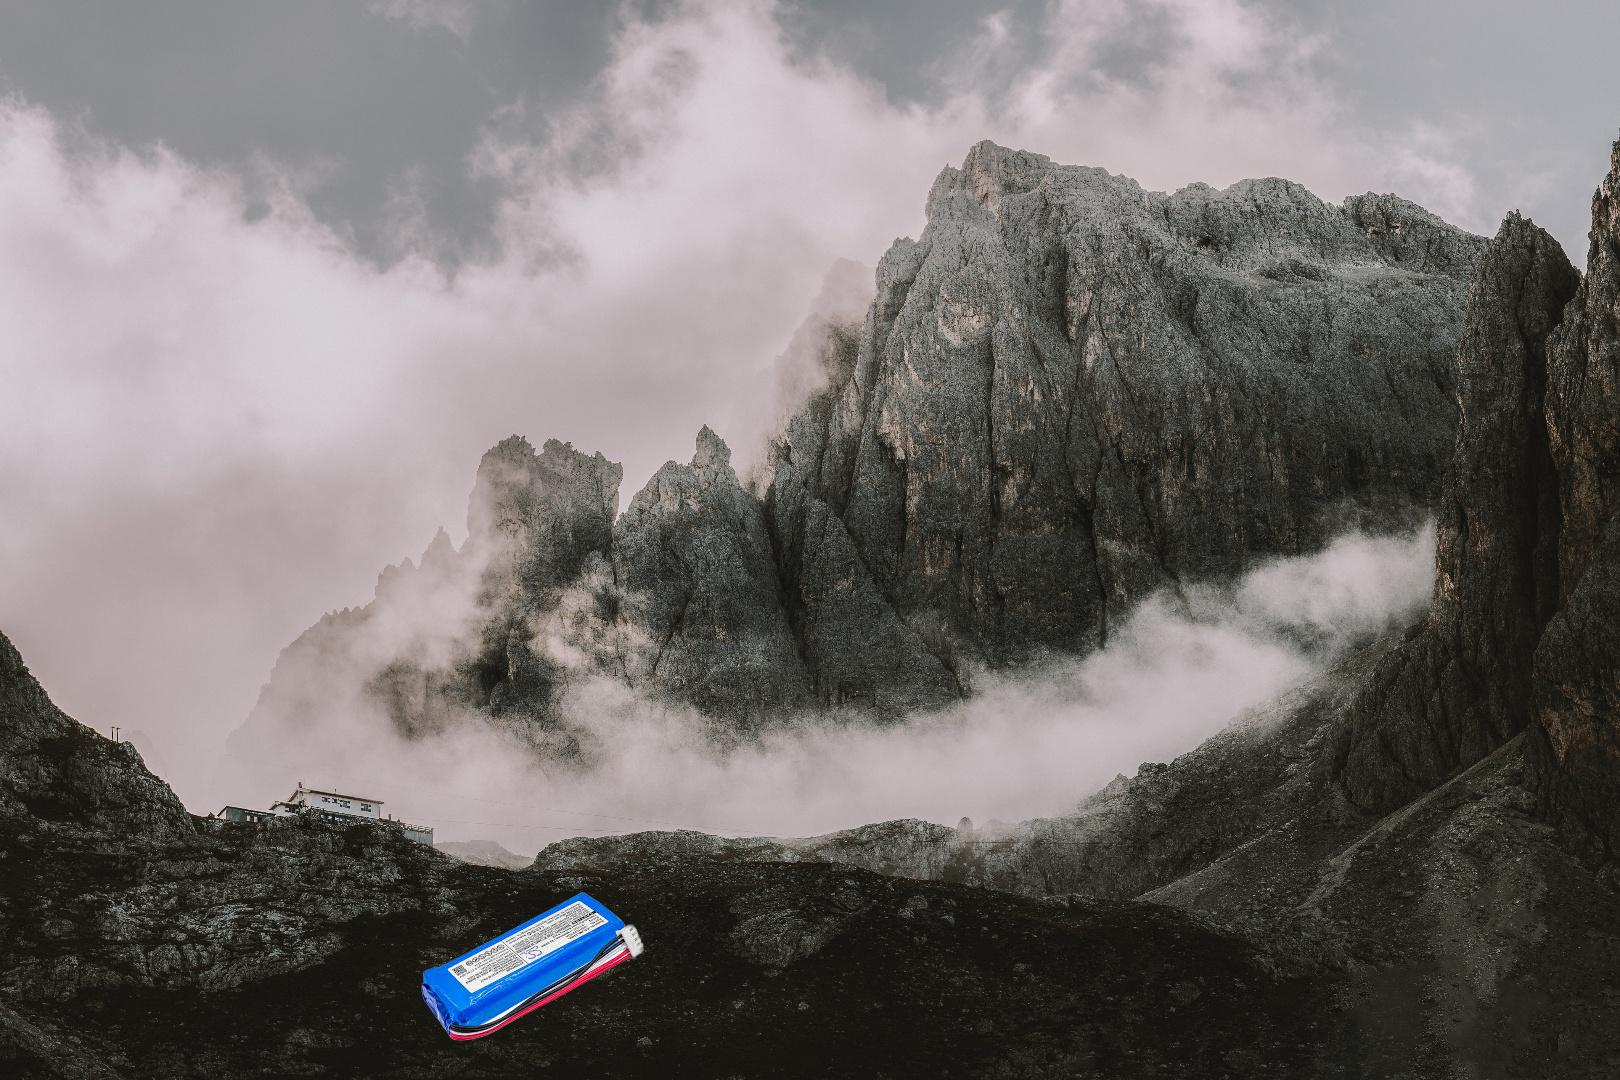battery: (421, 890, 646, 1043)
